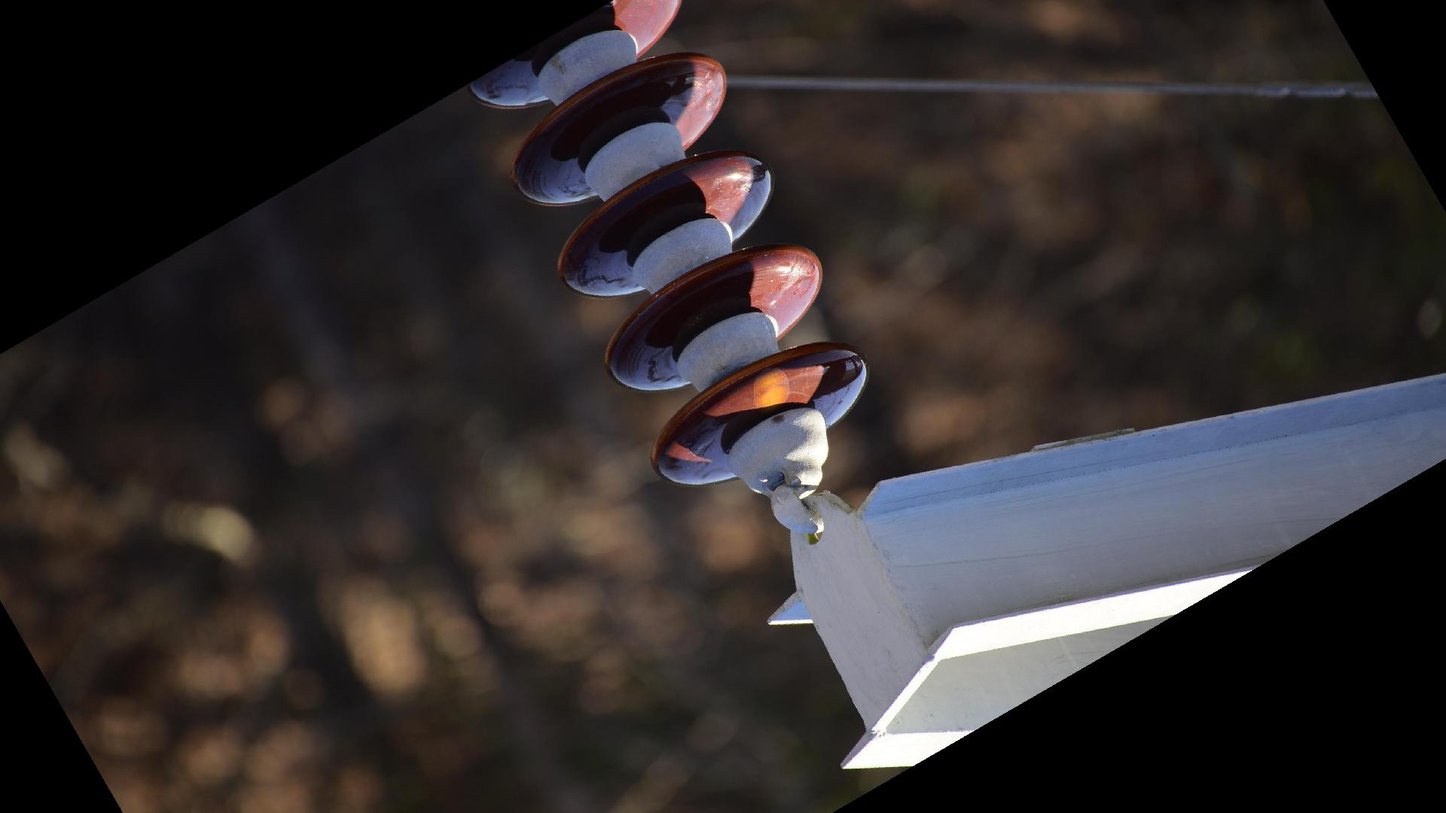insulator: (465, 1, 874, 496)
insulator_flashover: (751, 366, 792, 419)
